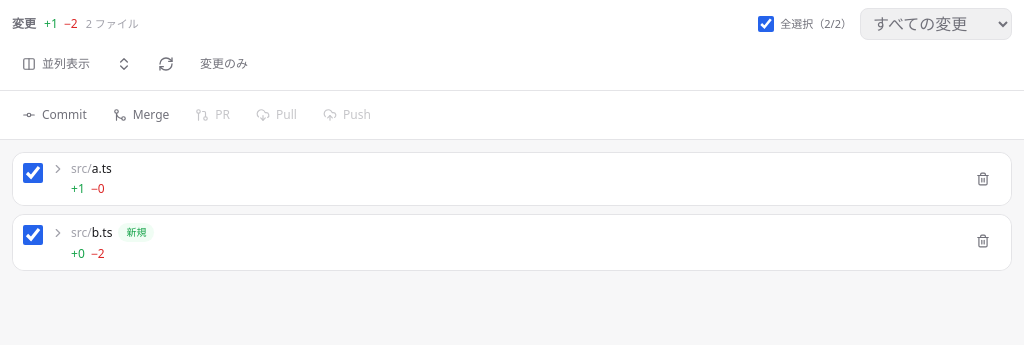
Test: DiffPane 全選択 › ヘッダの全選択チェックボックスで表示中のファイルの選択状態が切り替わる
Check: the text "a.ts" is shown, box [92,161,112,177]
Check: the checkbox named "src/a.ts をコミット対象にする" is checked, box [23,163,43,183]
Note: 全解除 → 各ファイルの選択が外れる
Step 1. Click the checkbox named "表示中のファイルをすべてコミット対象にする" → (766, 24), box [758,16,774,32]
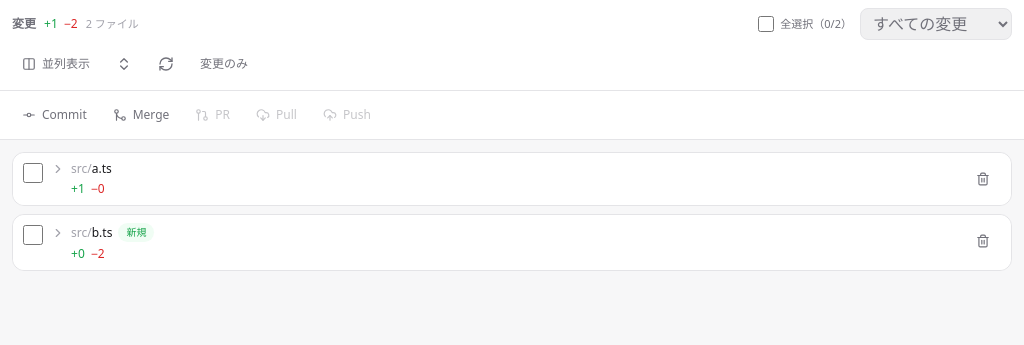
Check: the checkbox named "表示中のファイルをすべてコミット対象にする" is not checked
Check: the checkbox named "src/a.ts をコミット対象にする" is not checked, box [23,163,43,183]
Check: the checkbox named "src/b.ts をコミット対象にする" is not checked, box [23,225,43,245]
Note: 再選択 → 全ファイルが選択され、Commit パネルの件数にも反映される
Step 2. Click the checkbox named "表示中のファイルをすべてコミット対象にする" → (766, 24), box [758,16,774,32]
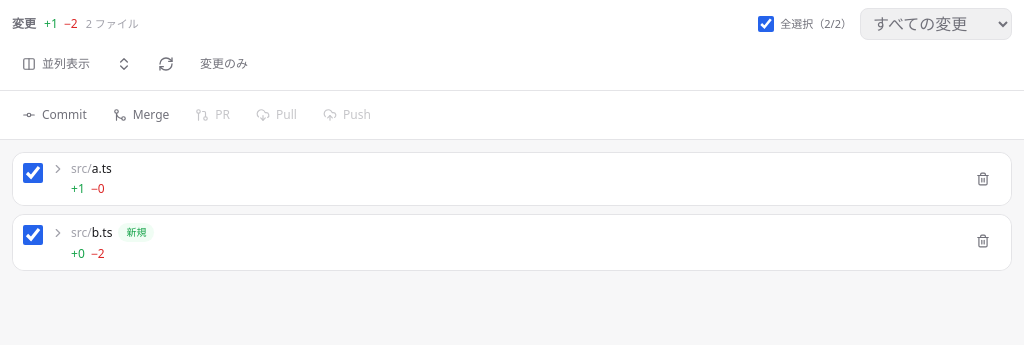
Check: the checkbox named "表示中のファイルをすべてコミット対象にする" is checked, box [758,16,774,32]
Step 3. Click the button with aria-label "Commit パネル" → (54, 115), box [12,99,97,131]
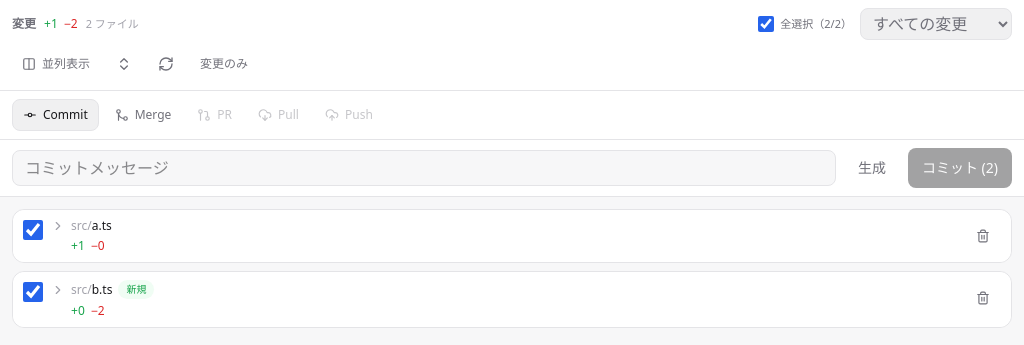
Check: the button "コミット (2)" is shown, box [908,148,1012,188]
